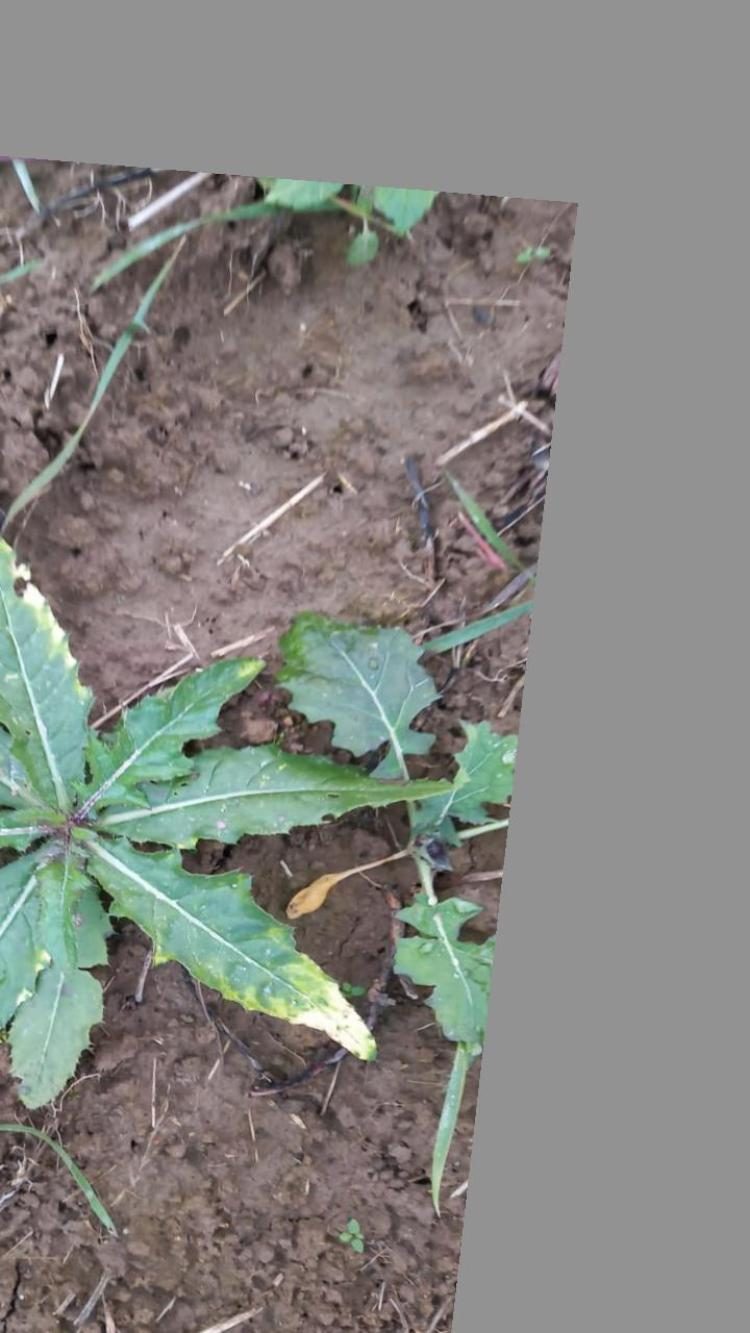osot: (0, 516, 471, 1127)
